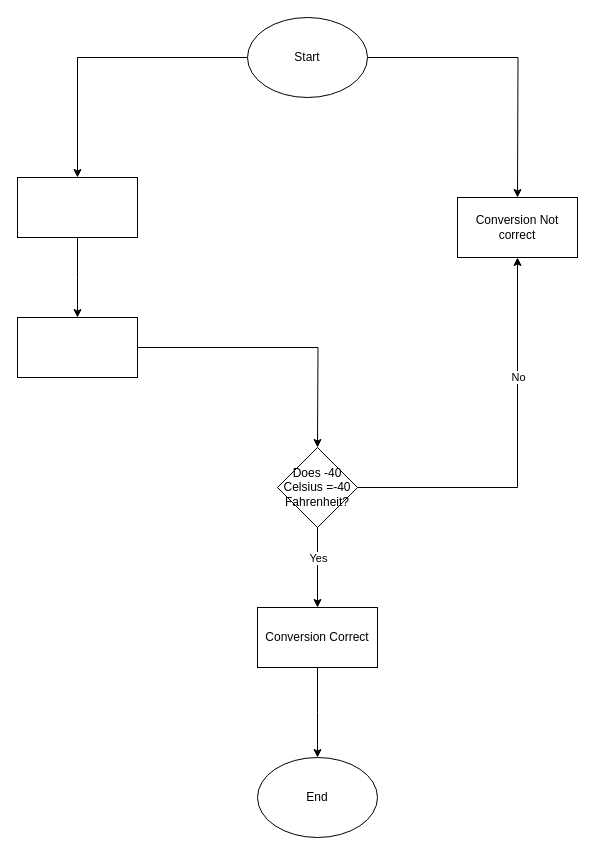
This 595x855 diagram has some shape labels left out. The centre of each missing label's shape, as x and y in pixels:
Celsius = (Fahrenheit-32)/1.8: pixel 77 207
Fahrenheit=(Celsius x 1.8) + 32: pixel 77 347
